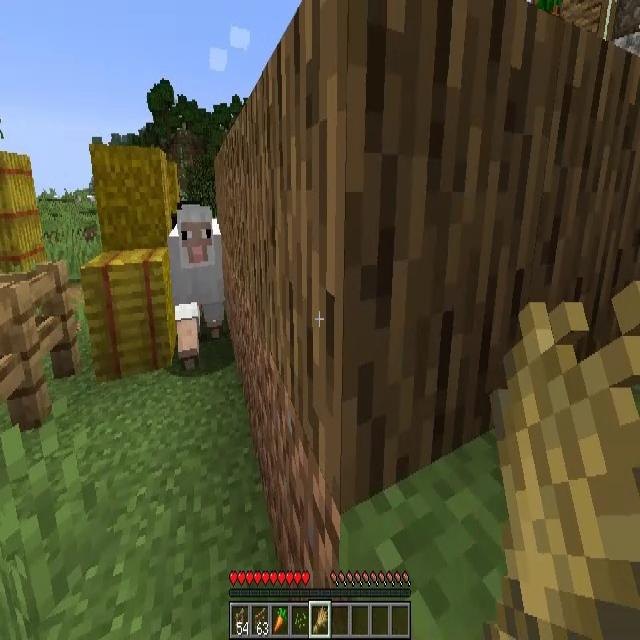sheep: (170, 204, 225, 364)
